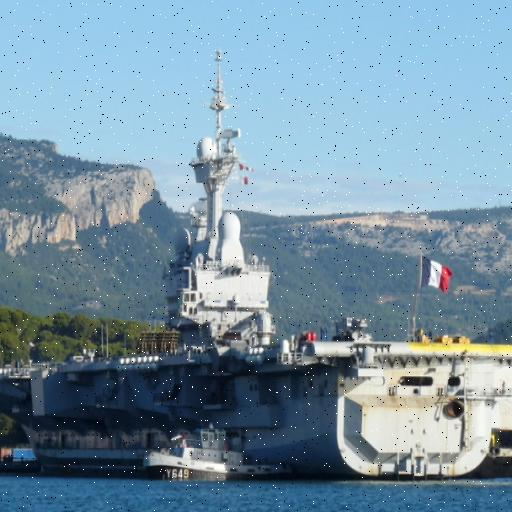Portanaves: (1, 35, 512, 489)
